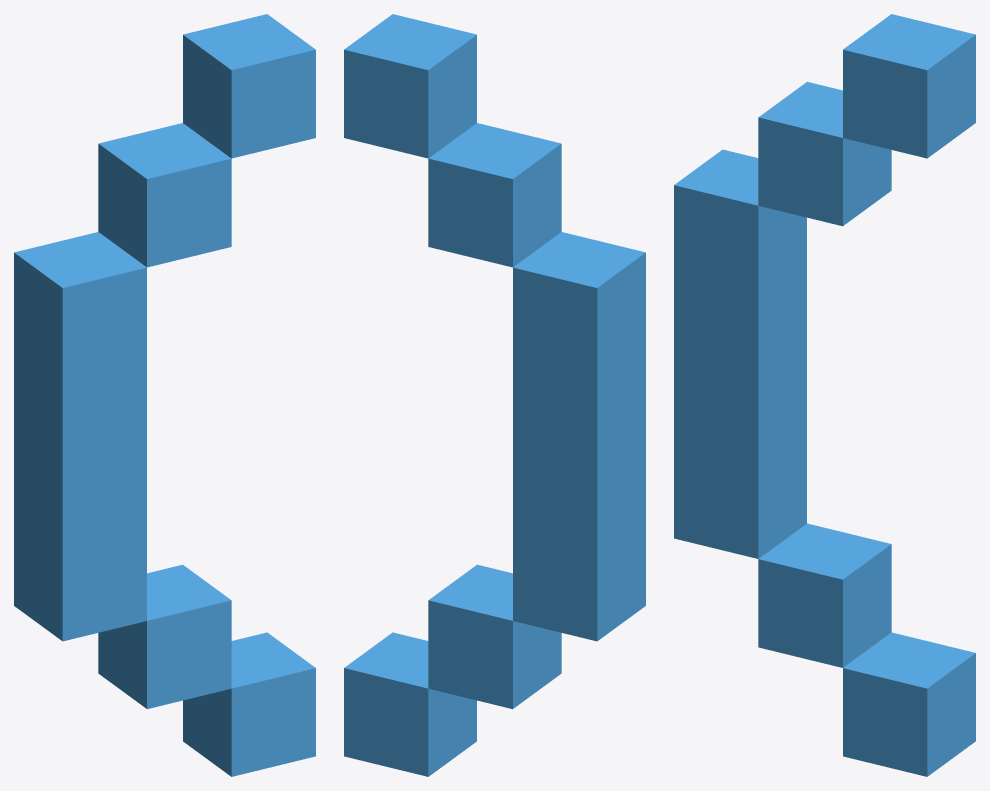
Rendered from Bow-Blue.vox.obj.
3 renders of one model, left to right at view 1: azimuth 30°, elevation 25°; view 2: azimuth 150°, elevation 25°; view 3: azimuth 330°, elevation 25°, orthographic.
Size of the model in its own units: 0.3 by 0.8 by 0.1.
Materials: 1 (1 with a texture image).
